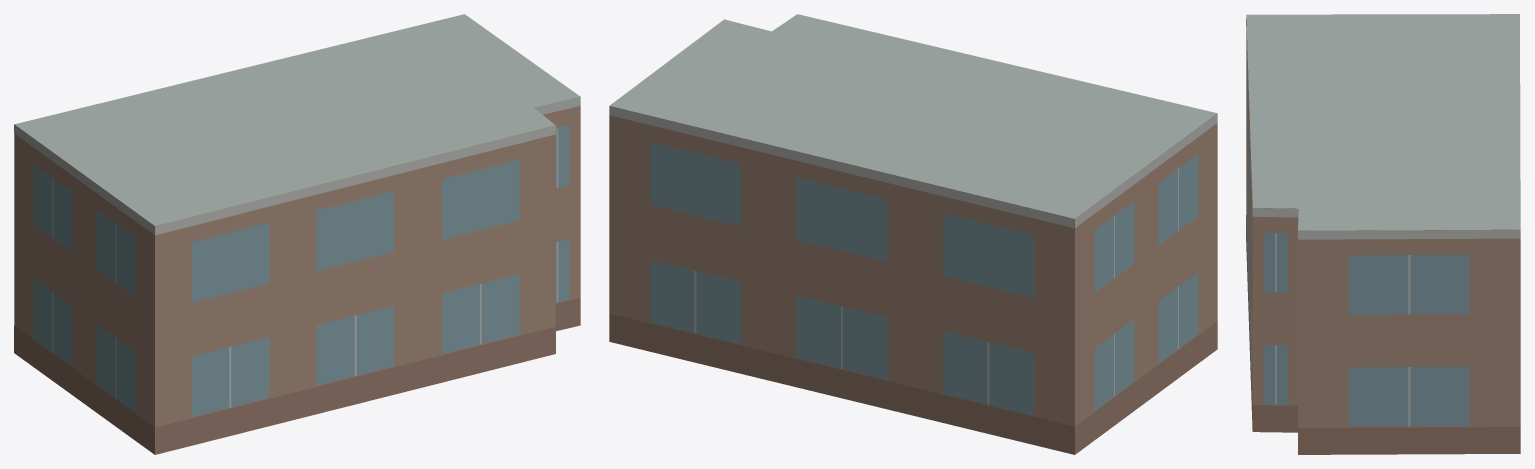
The model's file is survey-upis-32579449.glb.
The picture shows the model from 3 angles, left to right: view 1: azimuth 30°, elevation 25°; view 2: azimuth 150°, elevation 25°; view 3: azimuth 270°, elevation 25°; orthographic projection. The views are drawn at different scales.
Visible parts, largest first — view 1: survey-upis-32579449.tmp; view 2: survey-upis-32579449.tmp; view 3: survey-upis-32579449.tmp.
Part boxes in pixels (x1=…): survey-upis-32579449.tmp: x1=14, y1=14, x2=580, y2=454; survey-upis-32579449.tmp: x1=609, y1=14, x2=1217, y2=454; survey-upis-32579449.tmp: x1=1246, y1=14, x2=1520, y2=454.
Bounding box in the file's own units: 12.66 × 6.1 × 6.78.
